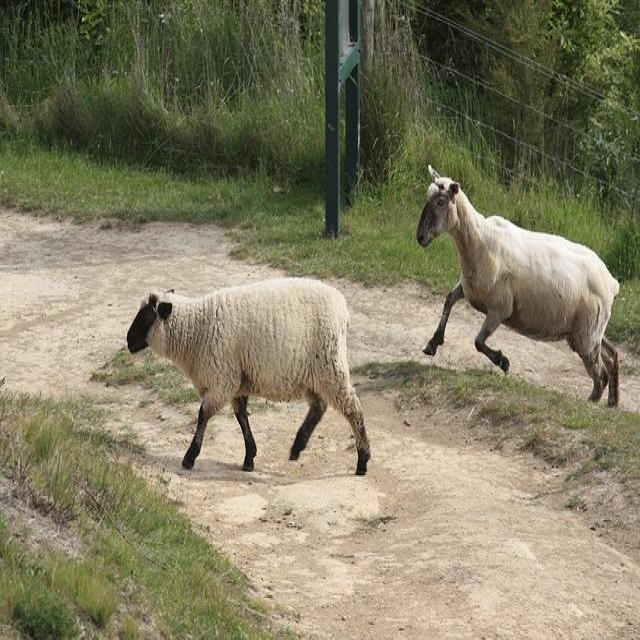Sheep: (124, 268, 370, 475), (417, 166, 620, 408)
